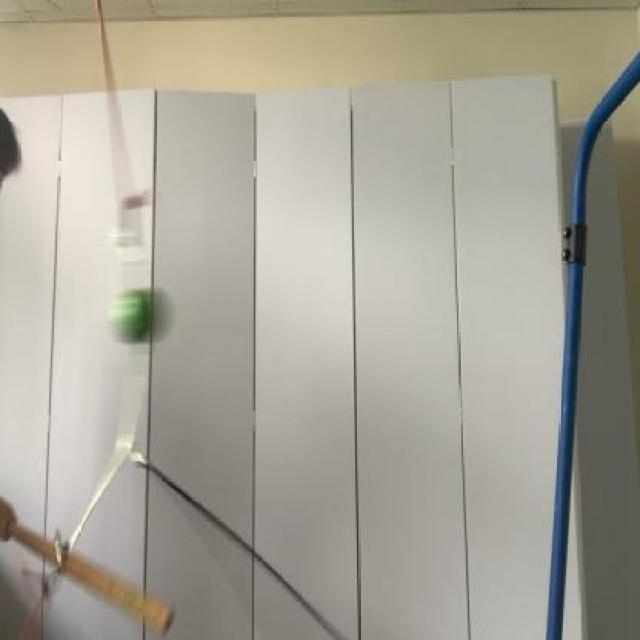baseball: (98, 268, 179, 359)
